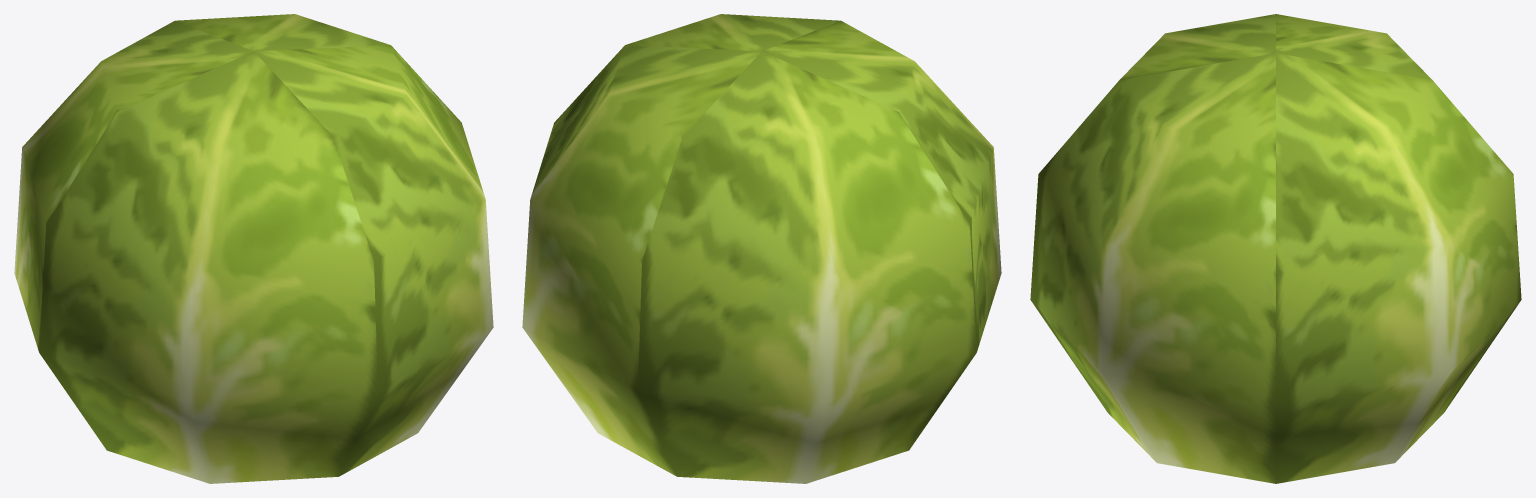
File: SM_PROP_food_salad.FBX
3 renders of one model, left to right at view 1: azimuth 30°, elevation 25°; view 2: azimuth 150°, elevation 25°; view 3: azimuth 270°, elevation 25°, orthographic.
Parts seen in each view (by area): view 1: SM_PROP_food_salad; view 2: SM_PROP_food_salad; view 3: SM_PROP_food_salad.
Part boxes in pixels (box(x1,y1,x2,y2)): SM_PROP_food_salad: box(14, 14, 493, 483); SM_PROP_food_salad: box(522, 14, 1001, 483); SM_PROP_food_salad: box(1030, 14, 1521, 483).
Size of the model in its own units: 31.51 by 31.51 by 27.48.
